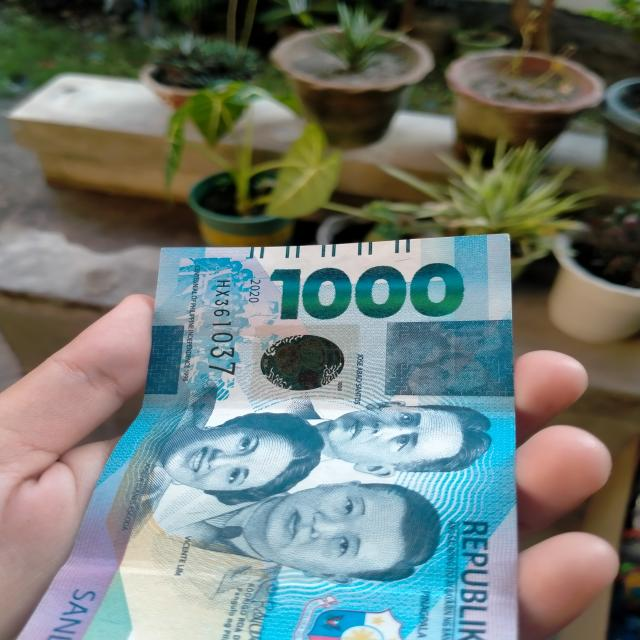concealed_value: (386, 318, 513, 396)
optically_variable_device: (244, 324, 360, 400)
serial_number: (204, 276, 240, 378)
